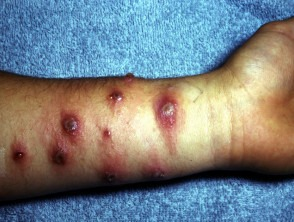Warts: (57, 108, 84, 141), (47, 142, 74, 173), (154, 95, 180, 125), (91, 163, 125, 185), (7, 144, 33, 169), (106, 86, 128, 111), (102, 125, 115, 145)
